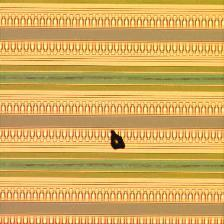PARTICLE: (106, 130, 129, 152)
